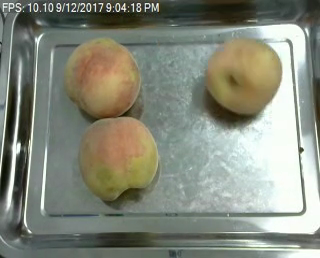Peach: (79, 117, 160, 201), (65, 36, 139, 118), (205, 37, 282, 114)
